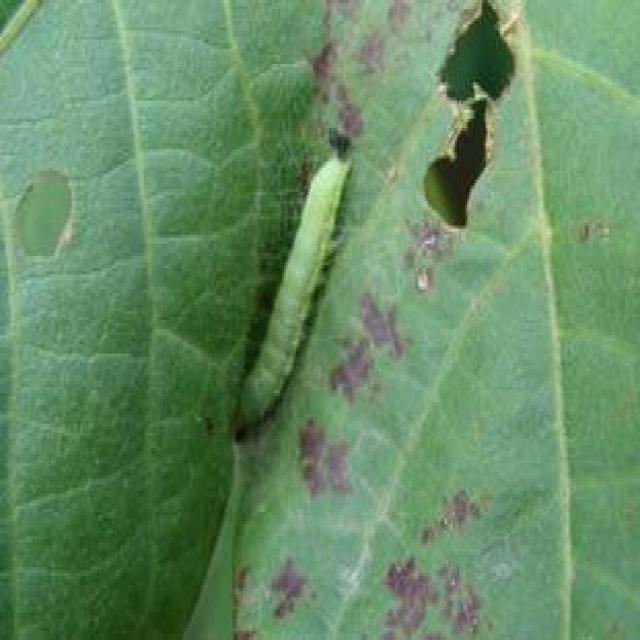BeetArmyWorm-Larva-: (231, 156, 354, 430)
